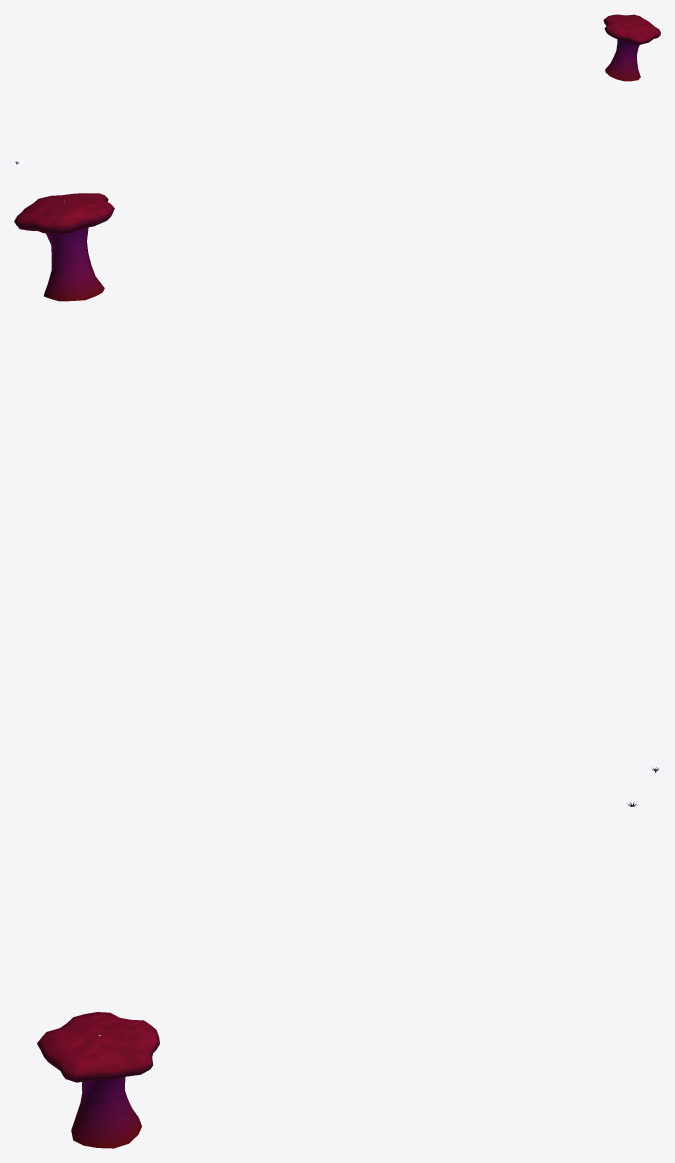
The model's file is toadstool_leather.glb.
3 renders of one model, top to bottom at view 1: azimuth 30°, elevation 25°; view 2: azimuth 150°, elevation 25°; view 3: azimuth 270°, elevation 25°, orthographic. The views are drawn at different scales.
Visible parts, largest first — view 1: Body; view 2: Body; view 3: Body.
Part boxes in pixels (x1,y1,x2,y2): Body: (603, 14, 660, 81); Body: (14, 193, 114, 301); Body: (37, 1012, 159, 1148).
Bounding box in the file's own units: 64.49 × 14.98 × 33.12.
Materials: 3 (3 with a texture image).
